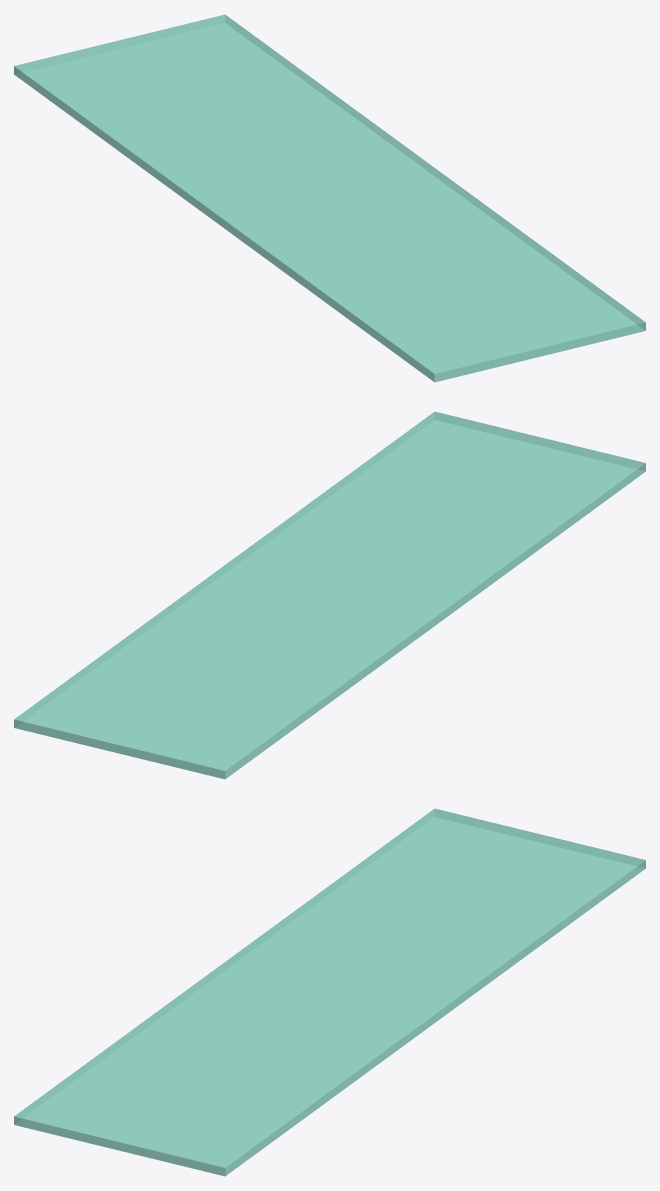
Rendered from BrokenGlassV2.fbx.
3 views of the same model, one above another, from view 1: azimuth 30°, elevation 25°; view 2: azimuth 150°, elevation 25°; view 3: azimuth 330°, elevation 25° (orthographic).
Parts seen in each view (by area): view 1: polySurface39, polySurface31, polySurface35, polySurface41, polySurface37, polySurface33, polySurface29, polySurface40; view 2: polySurface39, polySurface31, polySurface35, polySurface37, polySurface41, polySurface33, polySurface29, polySurface40; view 3: polySurface39, polySurface31, polySurface35, polySurface37, polySurface41, polySurface33, polySurface29, polySurface40.
Boxes of the visible parts, left/top/right/bottom form: polySurface39: left=318, top=178, right=591, bottom=327; polySurface31: left=88, top=14, right=345, bottom=141; polySurface35: left=156, top=125, right=408, bottom=251; polySurface41: left=360, top=282, right=607, bottom=381; polySurface37: left=257, top=149, right=447, bottom=297; polySurface33: left=106, top=103, right=376, bottom=178; polySurface29: left=14, top=32, right=152, bottom=128; polySurface40: left=434, top=295, right=645, bottom=382; polySurface39: left=237, top=451, right=571, bottom=564; polySurface31: left=14, top=631, right=317, bottom=745; polySurface35: left=165, top=584, right=468, bottom=674; polySurface37: left=198, top=548, right=529, bottom=601; polySurface41: left=380, top=439, right=645, bottom=525; polySurface33: left=135, top=608, right=367, bottom=711; polySurface29: left=86, top=716, right=299, bottom=779; polySurface40: left=397, top=411, right=645, bottom=470; polySurface39: left=89, top=1023, right=422, bottom=1136; polySurface31: left=342, top=842, right=645, bottom=956; polySurface35: left=192, top=912, right=494, bottom=1002; polySurface37: left=130, top=986, right=461, bottom=1039; polySurface41: left=14, top=1062, right=279, bottom=1148; polySurface33: left=293, top=876, right=524, bottom=978; polySurface29: left=360, top=808, right=573, bottom=870; polySurface40: left=14, top=1116, right=262, bottom=1176.
Bounding box in the file's own units: 0.7809 × 0.0299 × 2.69.
